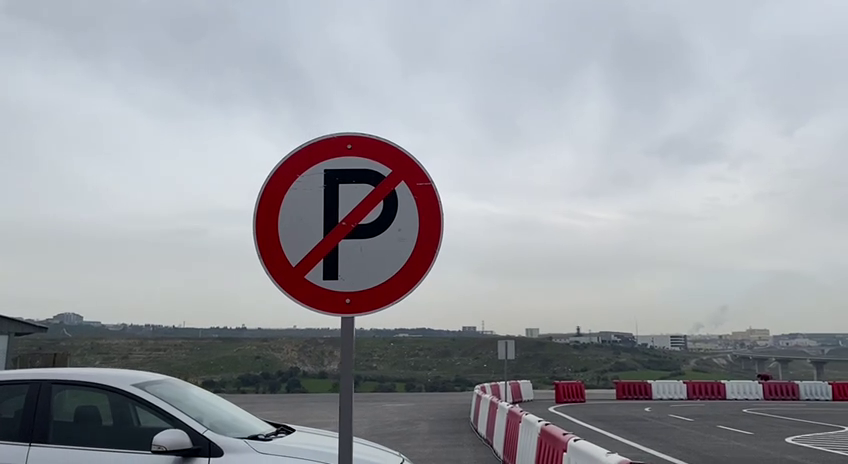noparking: (245, 123, 448, 327)
